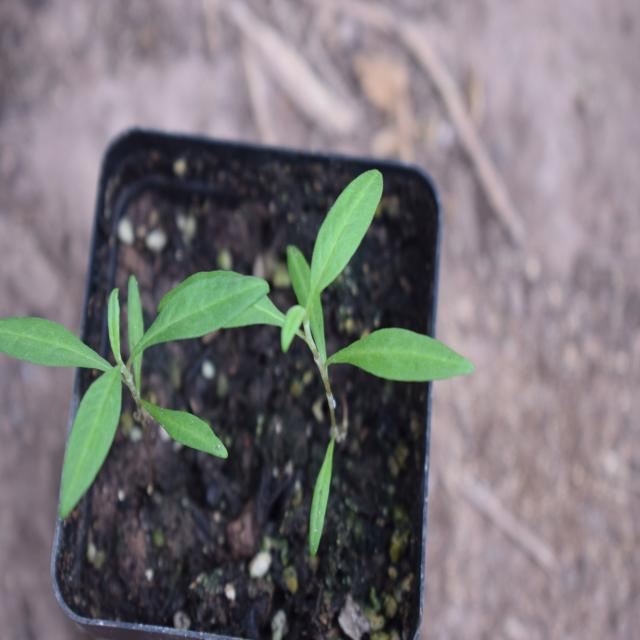white_smart_weed: (0, 249, 271, 540), (236, 186, 459, 470)
